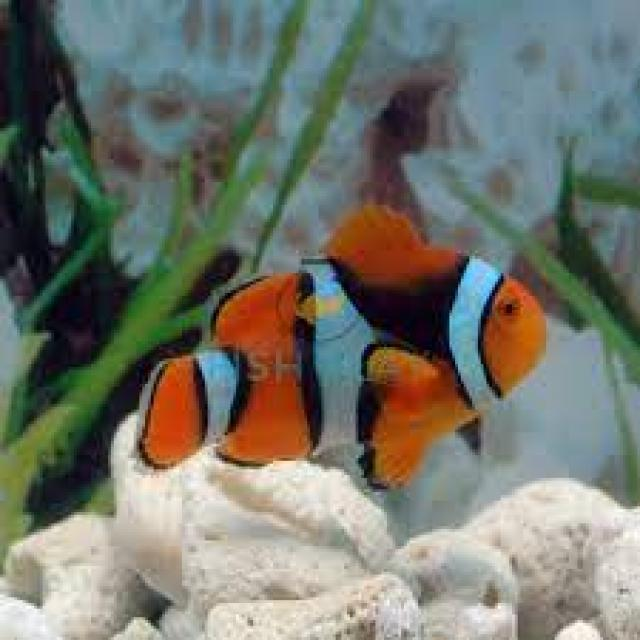ClownFish: (140, 207, 547, 493)
